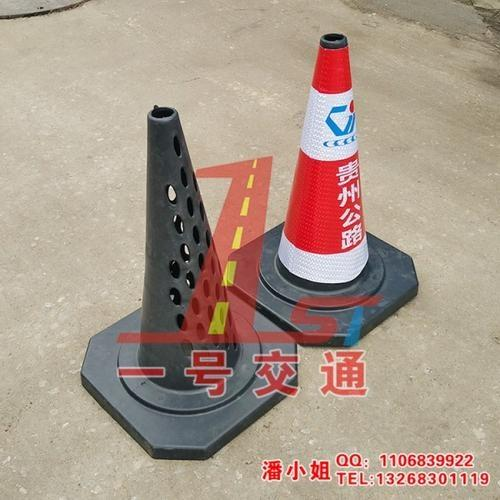cone_barrel: (112, 106, 245, 412), (261, 34, 391, 294)
